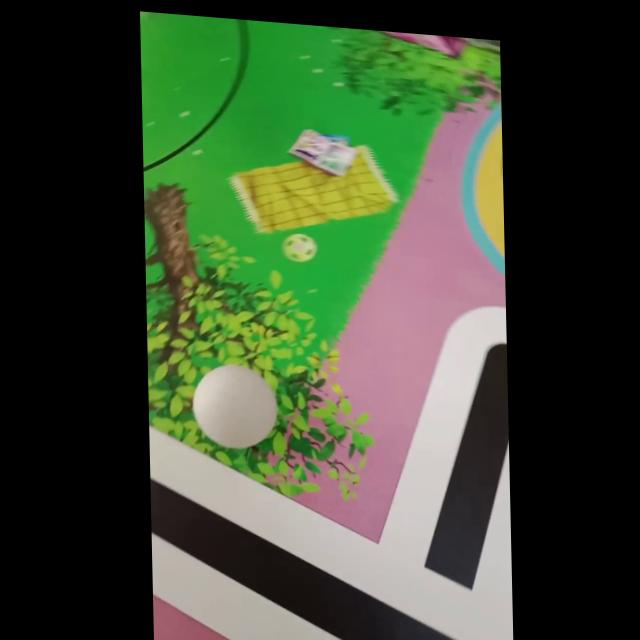white ball: (190, 360, 279, 453)
